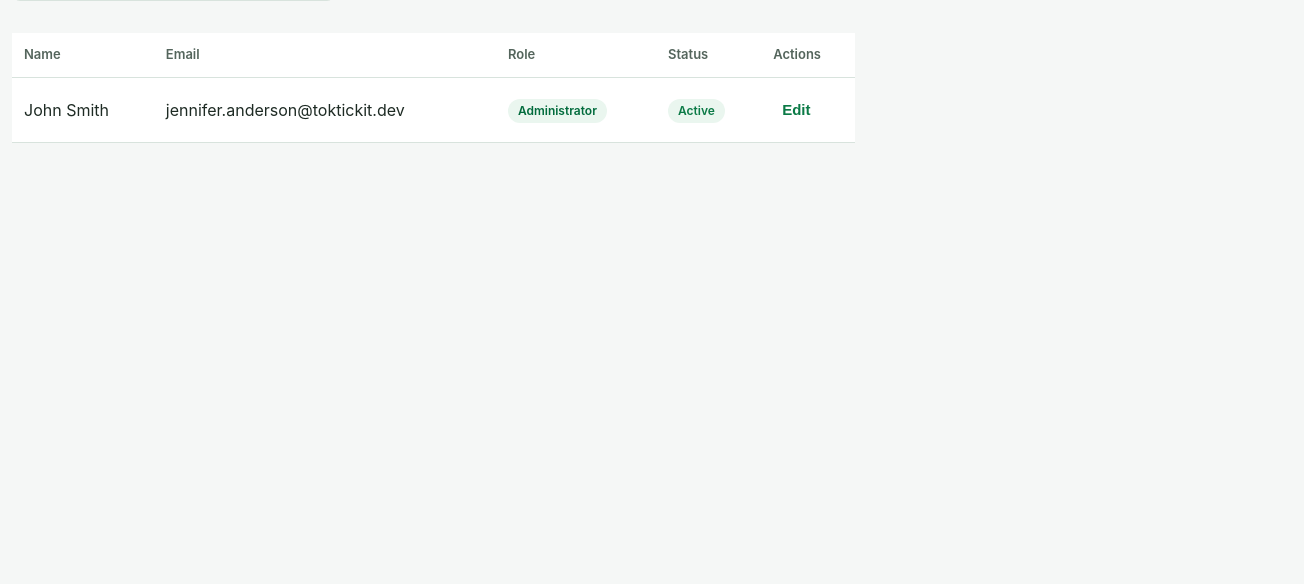
Test: UserManagement › disables the self-deactivation and self-demotion controls on the administrator's own row
Step 1. Click the button "Edit" → coordinates (796, 110), box [773,90,819,130]
(page scrolled)
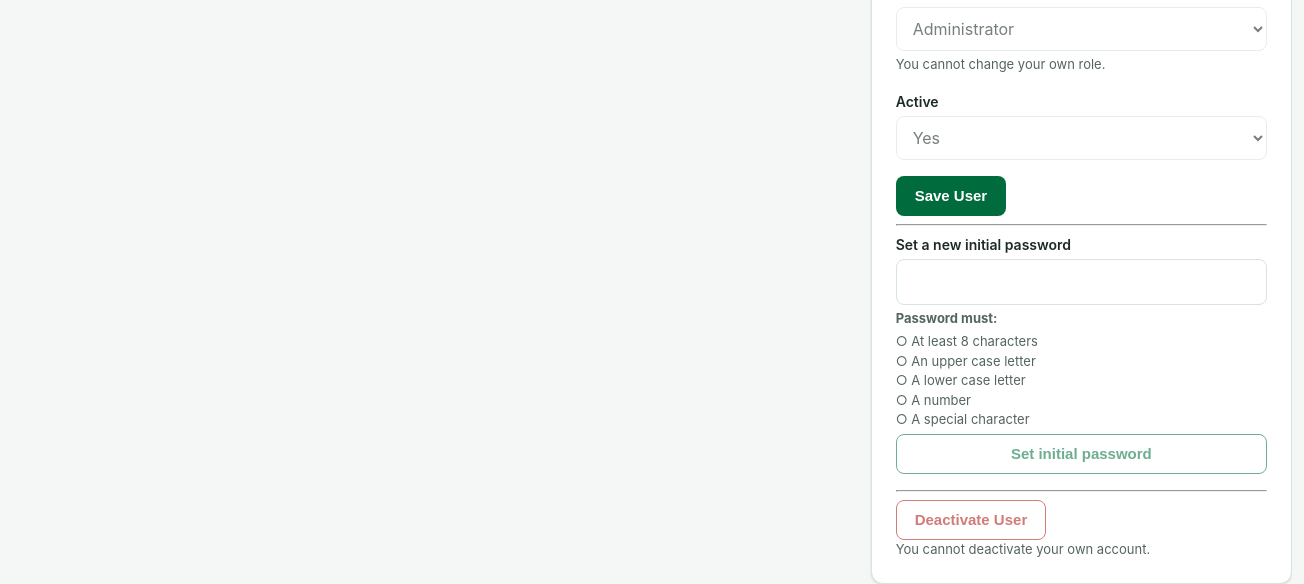
Now the button "Deactivate User" is disabled, box [896,500,1046,540]
Now the dropdown labelled "Role" is disabled, box [896,7,1267,51]
Now the text "You cannot deactivate your own account." is shown, box [896,540,1150,556]
